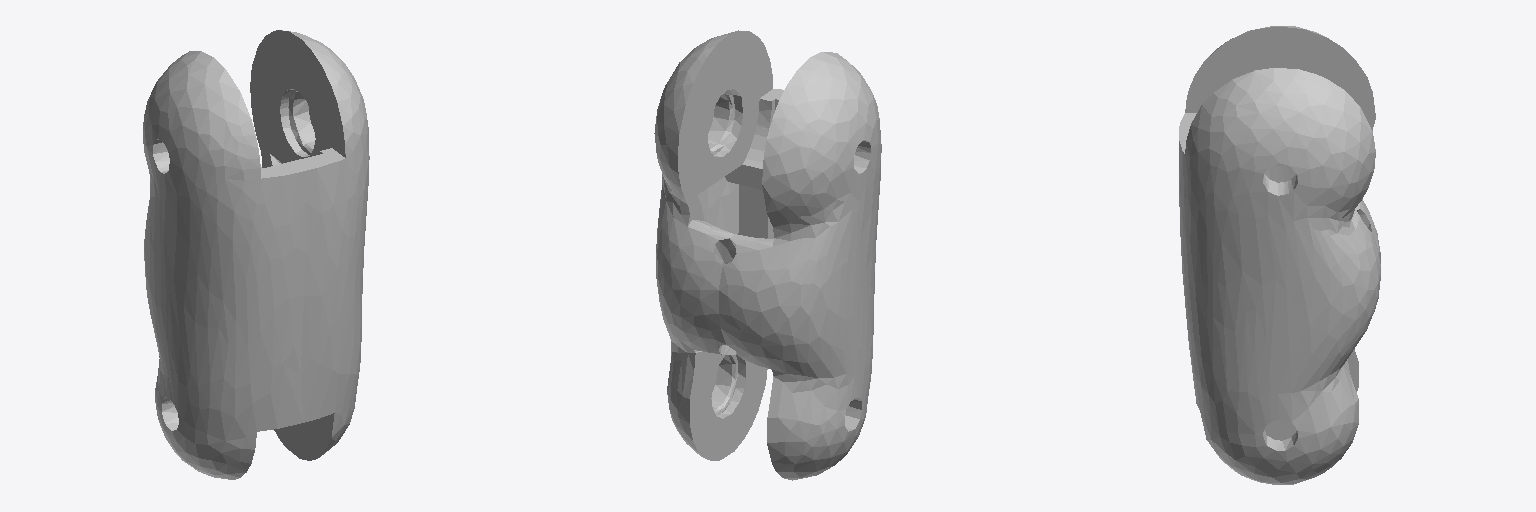
Rendered from armar-7_little_proximal_phalanx.obj.
The picture shows the model from 3 angles: view 1: azimuth 30°, elevation 25°; view 2: azimuth 150°, elevation 25°; view 3: azimuth 270°, elevation 25°; orthographic projection.
Size of the model in its own units: 0.0186 by 0.0392 by 0.0172.